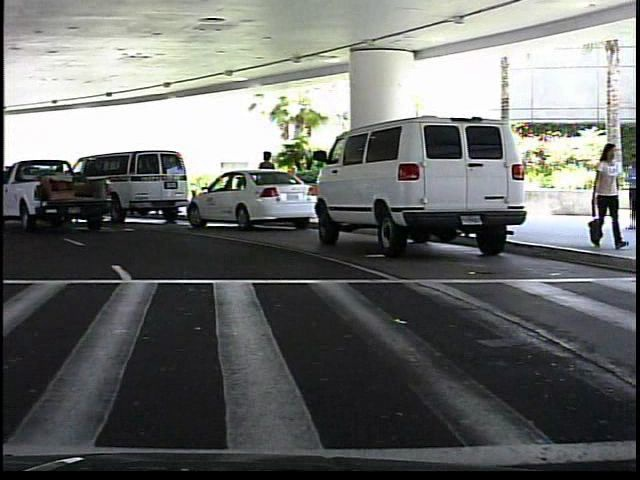person: (587, 139, 621, 251), (255, 148, 281, 216), (626, 153, 640, 236)
